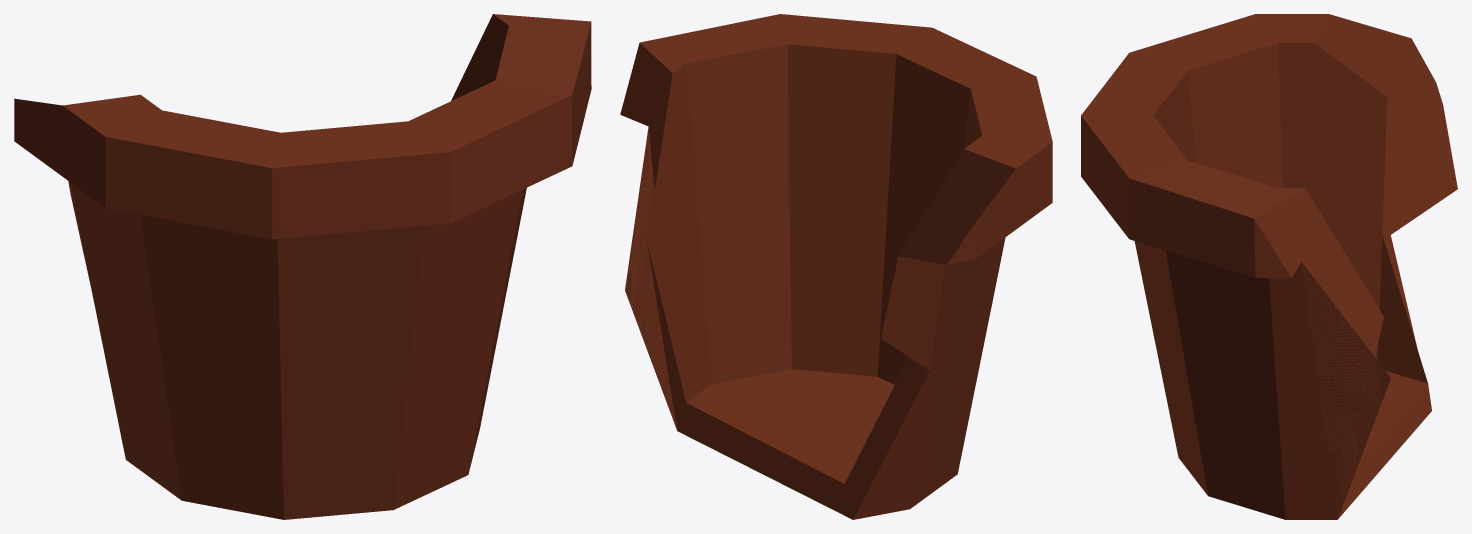
The model's file is Broken_pot_1a.fbx.
The picture shows the model from 3 angles, left to right: view 1: azimuth 30°, elevation 25°; view 2: azimuth 150°, elevation 25°; view 3: azimuth 270°, elevation 25°; orthographic projection. The views are drawn at different scales.
Visible parts, largest first — view 1: Cylinder.001; view 2: Cylinder.001; view 3: Cylinder.001.
Part boxes in pixels (left/top/right/bottom): Cylinder.001: left=14, top=14, right=591, bottom=519; Cylinder.001: left=620, top=14, right=1052, bottom=519; Cylinder.001: left=1081, top=14, right=1457, bottom=519.
Bounding box in the file's own units: 113 × 88.96 × 88.82.
